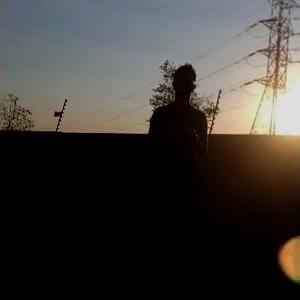follow: (118, 60, 210, 283)
